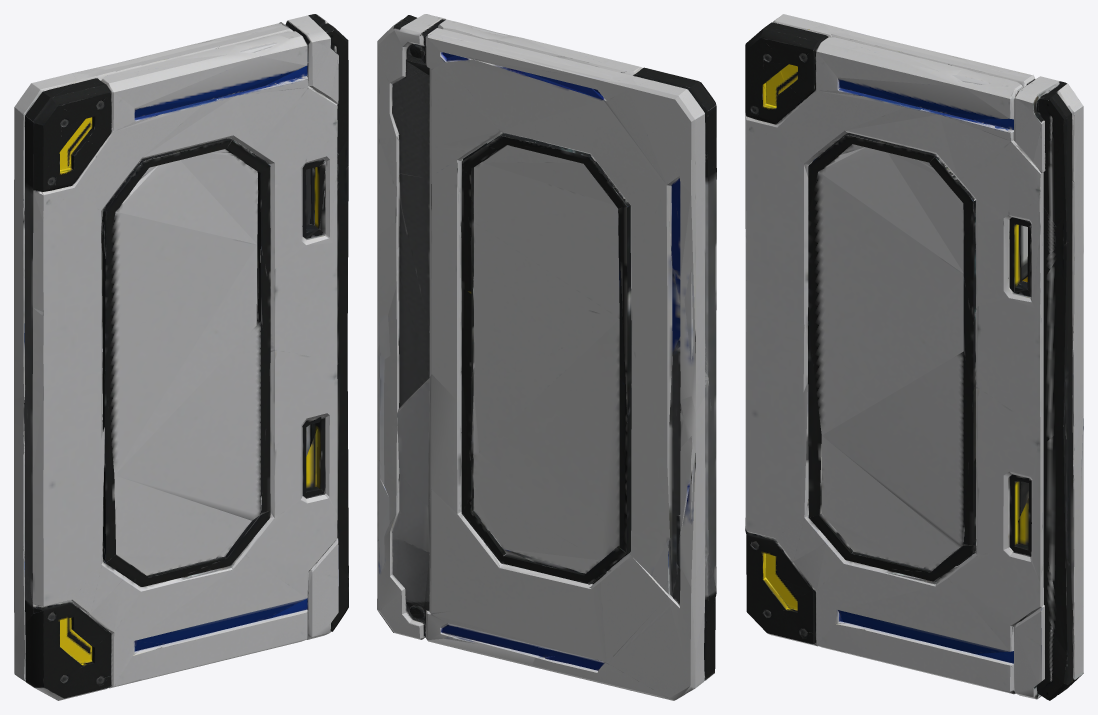
The model's file is door_panel.glb.
3 views of the same model, side by side, from view 1: azimuth 30°, elevation 25°; view 2: azimuth 150°, elevation 25°; view 3: azimuth 330°, elevation 25° (orthographic).
Visible parts, largest first — view 1: Mesh_0; view 2: Mesh_0; view 3: Mesh_0.
Boxes of the visible parts, x1,y1,x2,y2 form: Mesh_0: (14,14,348,700); Mesh_0: (377,14,716,700); Mesh_0: (745,14,1083,700).
Size of the model in its own units: 1.05 by 1.9 by 0.1506.
1 material, 1 textured.
